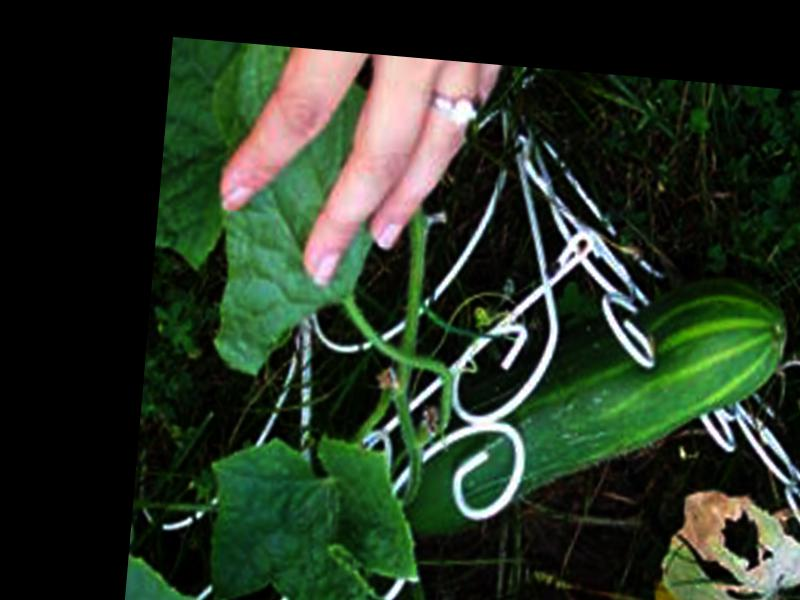Cucumber: (397, 253, 790, 566)
